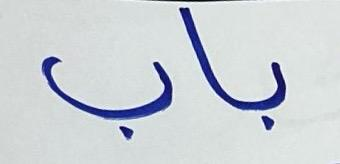alef: (180, 7, 223, 103)
beh: (38, 42, 174, 144), (225, 60, 294, 133)
